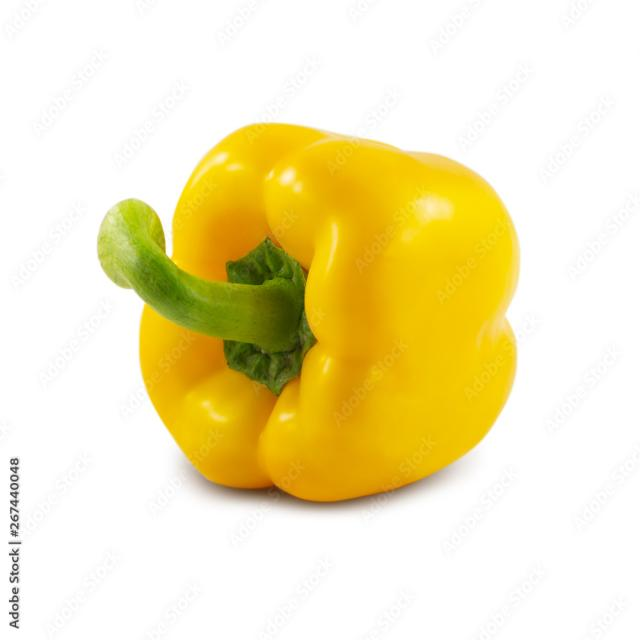Bell Pepper: (104, 108, 526, 490)
